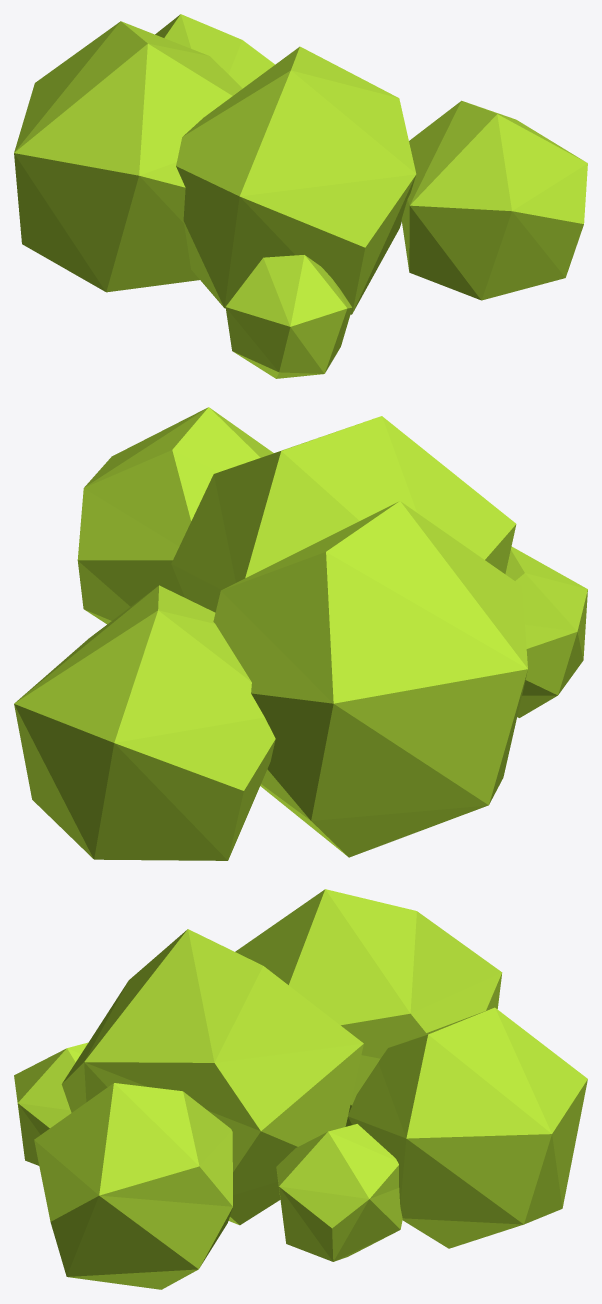
File: bush01.fbx
3 views of the same model, one above another, from view 1: azimuth 30°, elevation 25°; view 2: azimuth 150°, elevation 25°; view 3: azimuth 270°, elevation 25° (orthographic). The views are drawn at different scales.
Parts seen in each view (by area): view 1: calilik.001; view 2: calilik.001; view 3: calilik.001.
Boxes of the visible parts, box(x1,y1,x2,y2) form: calilik.001: box(14, 14, 587, 378); calilik.001: box(14, 407, 587, 860); calilik.001: box(14, 889, 587, 1289).
Bounding box in the file's own units: 0.7022 × 0.405 × 0.723.
